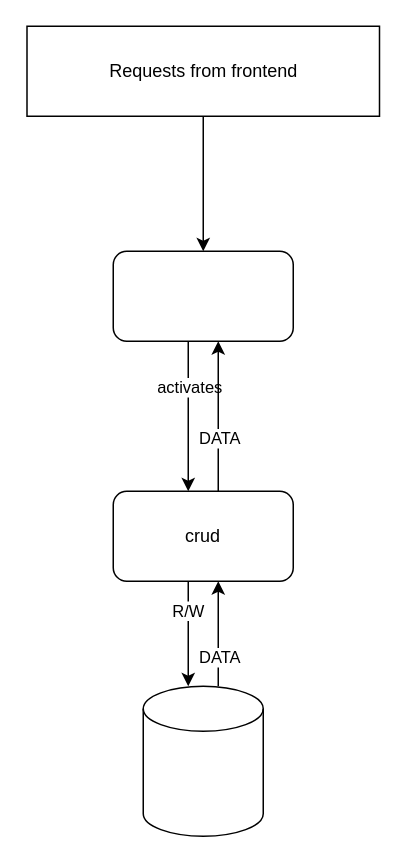
This 405x863 diagram has some shape labels left out. The shapes that lost their labels are listed below. From the top down, each one's centre as x and y in pixels, then its label:
At (202,295): "routers".
At (202,760): "PostgreSQL".
